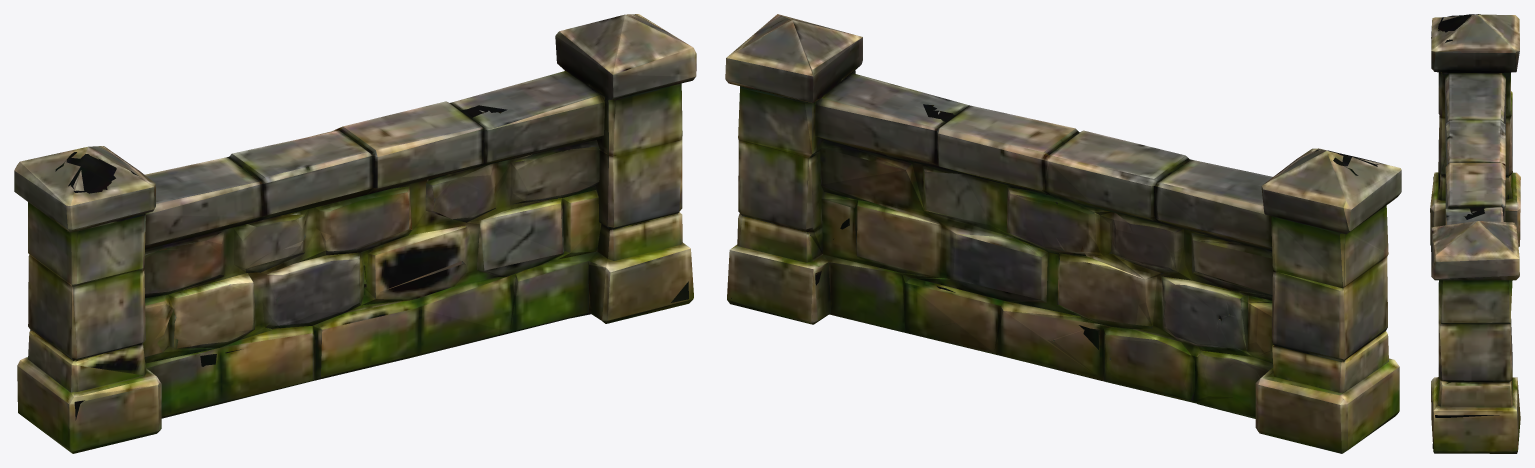
The model's file is sonteWallWithMesh_00001_.glb.
The picture shows the model from 3 angles, left to right: view 1: azimuth 30°, elevation 25°; view 2: azimuth 150°, elevation 25°; view 3: azimuth 270°, elevation 25°; orthographic projection. The views are drawn at different scales.
Visible parts, largest first — view 1: geometry_0; view 2: geometry_0; view 3: geometry_0.
Part boxes in pixels (<box>): geometry_0: <box>14,14,696,453</box>; geometry_0: <box>725,14,1401,453</box>; geometry_0: <box>1430,14,1520,453</box>.
Bounding box in the file's own units: 0.9996 × 0.4211 × 0.1577.
Materials: 1 (1 with a texture image).
